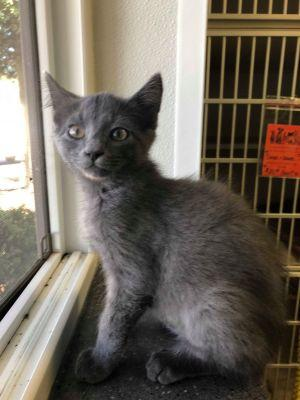rblue: (34, 61, 170, 193)
